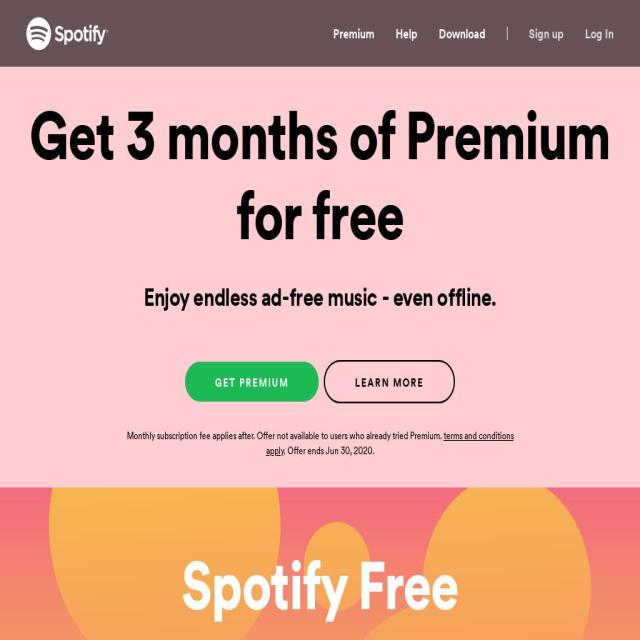button: (324, 360, 455, 403), (185, 362, 319, 402), (428, 0, 496, 67), (323, 0, 385, 67), (518, 0, 574, 67), (385, 0, 428, 67), (26, 17, 109, 50), (574, 0, 614, 67)
heading: (26, 91, 614, 252), (181, 542, 459, 622), (26, 277, 614, 314)
image: (26, 16, 109, 52)
link: (266, 428, 514, 458)
text: (126, 428, 444, 443), (284, 442, 374, 458), (215, 372, 289, 391), (355, 372, 424, 391)
